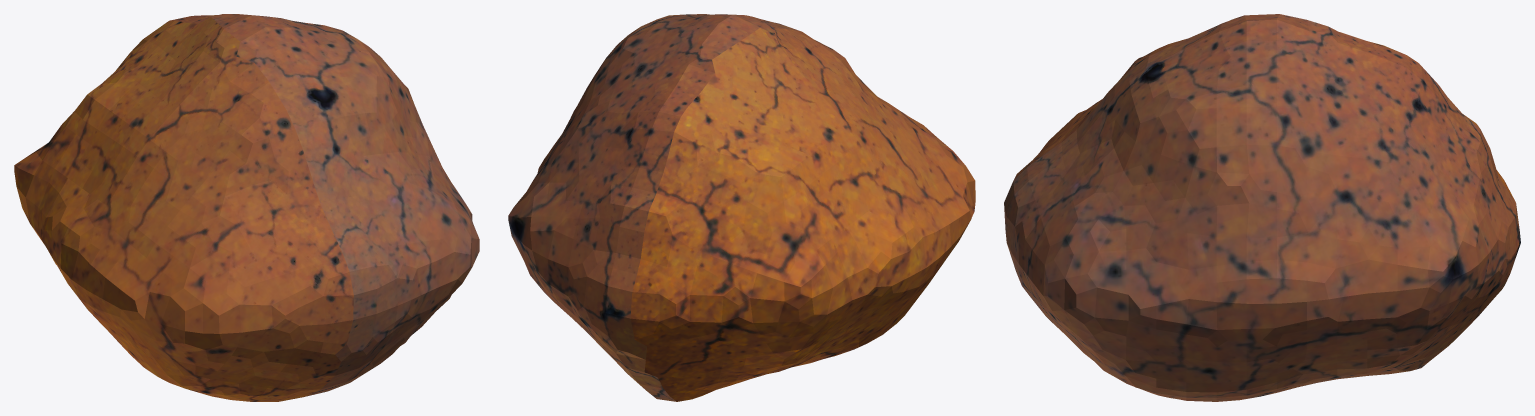
The model's file is stone3.fbx.
The picture shows the model from 3 angles, left to right: view 1: azimuth 30°, elevation 25°; view 2: azimuth 150°, elevation 25°; view 3: azimuth 270°, elevation 25°; orthographic projection. The views are drawn at different scales.
Parts seen in each view (by area): view 1: 立方体; view 2: 立方体; view 3: 立方体.
Boxes of the visible parts, left/top/right/bottom form: 立方体: left=14, top=14, right=479, bottom=401; 立方体: left=508, top=14, right=975, bottom=401; 立方体: left=1004, top=14, right=1520, bottom=401.
Size of the model in its own units: 40.85 by 36.72 by 46.84.
Materials: 1 (1 with a texture image).
